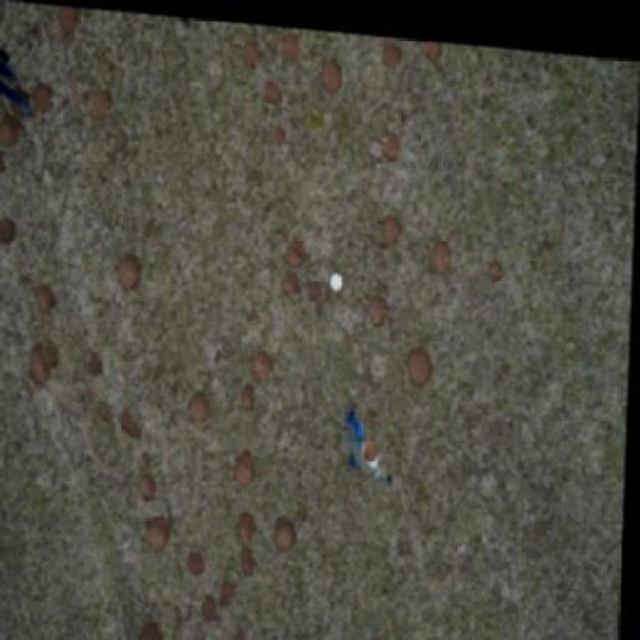Person: (341, 395, 393, 482)
